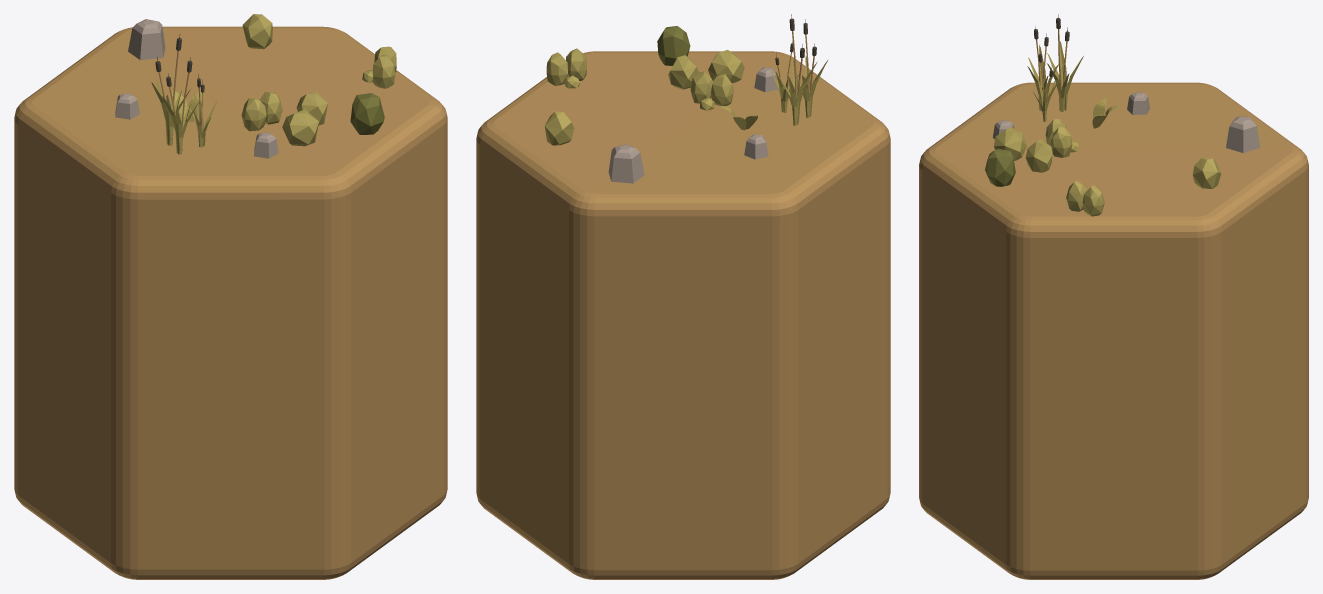
The model's file is Hex-desert2.glb.
The picture shows the model from 3 angles, left to right: view 1: azimuth 30°, elevation 25°; view 2: azimuth 150°, elevation 25°; view 3: azimuth 270°, elevation 25°; orthographic projection. The views are drawn at different scales.
Visible parts, largest first — view 1: Cylinder, Plane.091_Material.001_0, Cylinder.153_Material.001_0, Icosphere.021_Material.001_0, Sphere.028_Material.001_0, Icosphere.020_Material.001_0, Icosphere.025_Material.001_0, Icosphere.010_Material.001_0, Icosphere.019_Material.001_0; view 2: Cylinder, Plane.091_Material.001_0, Icosphere.021_Material.001_0, Icosphere.025_Material.001_0, Cylinder.153_Material.001_0, Sphere.028_Material.001_0, Icosphere.020_Material.001_0, Icosphere.010_Material.001_0, Icosphere.019_Material.001_0; view 3: Cylinder, Plane.091_Material.001_0, Cylinder.153_Material.001_0, Icosphere.025_Material.001_0, Sphere.028_Material.001_0, Icosphere.021_Material.001_0, Icosphere.010_Material.001_0, Icosphere.019_Material.001_0, Icosphere.020_Material.001_0.
Boxes of the visible parts, left/top/right/bottom form: Cylinder: left=14, top=26, right=447, bottom=579; Plane.091_Material.001_0: left=151, top=33, right=216, bottom=154; Cylinder.153_Material.001_0: left=128, top=19, right=165, bottom=60; Icosphere.021_Material.001_0: left=241, top=91, right=282, bottom=131; Sphere.028_Material.001_0: left=350, top=93, right=384, bottom=134; Icosphere.020_Material.001_0: left=282, top=109, right=318, bottom=146; Icosphere.025_Material.001_0: left=362, top=46, right=396, bottom=88; Icosphere.010_Material.001_0: left=242, top=14, right=272, bottom=49; Icosphere.019_Material.001_0: left=296, top=91, right=327, bottom=125; Cylinder: left=476, top=51, right=890, bottom=579; Plane.091_Material.001_0: left=770, top=14, right=828, bottom=125; Icosphere.021_Material.001_0: left=690, top=71, right=733, bottom=110; Icosphere.025_Material.001_0: left=546, top=48, right=586, bottom=88; Cylinder.153_Material.001_0: left=608, top=144, right=644, bottom=183; Sphere.028_Material.001_0: left=657, top=26, right=690, bottom=65; Icosphere.020_Material.001_0: left=708, top=49, right=744, bottom=83; Icosphere.010_Material.001_0: left=544, top=111, right=574, bottom=145; Icosphere.019_Material.001_0: left=668, top=55, right=699, bottom=89; Cylinder: left=919, top=82, right=1308, bottom=579; Plane.091_Material.001_0: left=1027, top=14, right=1083, bottom=121; Cylinder.153_Material.001_0: left=1226, top=116, right=1260, bottom=152; Icosphere.025_Material.001_0: left=1066, top=180, right=1104, bottom=216; Sphere.028_Material.001_0: left=985, top=148, right=1015, bottom=186; Icosphere.021_Material.001_0: left=1045, top=119, right=1078, bottom=157; Icosphere.010_Material.001_0: left=1192, top=158, right=1221, bottom=188; Icosphere.019_Material.001_0: left=1025, top=139, right=1052, bottom=172; Icosphere.020_Material.001_0: left=994, top=127, right=1026, bottom=160.
Size of the model in its own units: 1.73 by 2.55 by 1.95.
2 materials, 2 textured.
